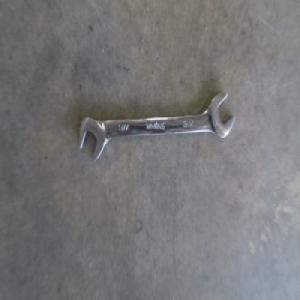Wrench: (83, 94, 228, 161)
